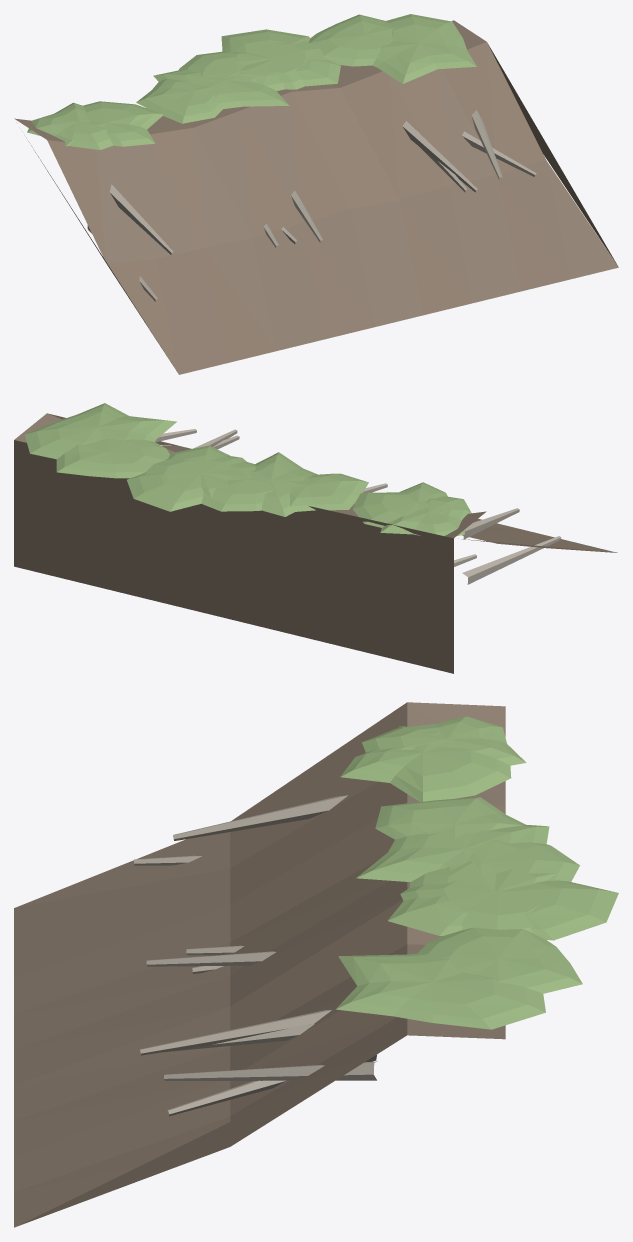
Rendered from temperate-forest-ecology-earth-bank-tile-ea31f879__3881.glb.
3 views of the same model, one above another, from view 1: azimuth 30°, elevation 25°; view 2: azimuth 150°, elevation 25°; view 3: azimuth 270°, elevation 25° (orthographic). The views are drawn at different scales.
Visible parts, largest first — view 1: earth-bank-tile; view 2: earth-bank-tile; view 3: earth-bank-tile.
Part boxes in pixels (<box>): earth-bank-tile: <box>14,14,618,374</box>; earth-bank-tile: <box>14,403,617,673</box>; earth-bank-tile: <box>14,702,618,1227</box>.
Size of the model in its own units: 4 by 1.2 by 3.2.
